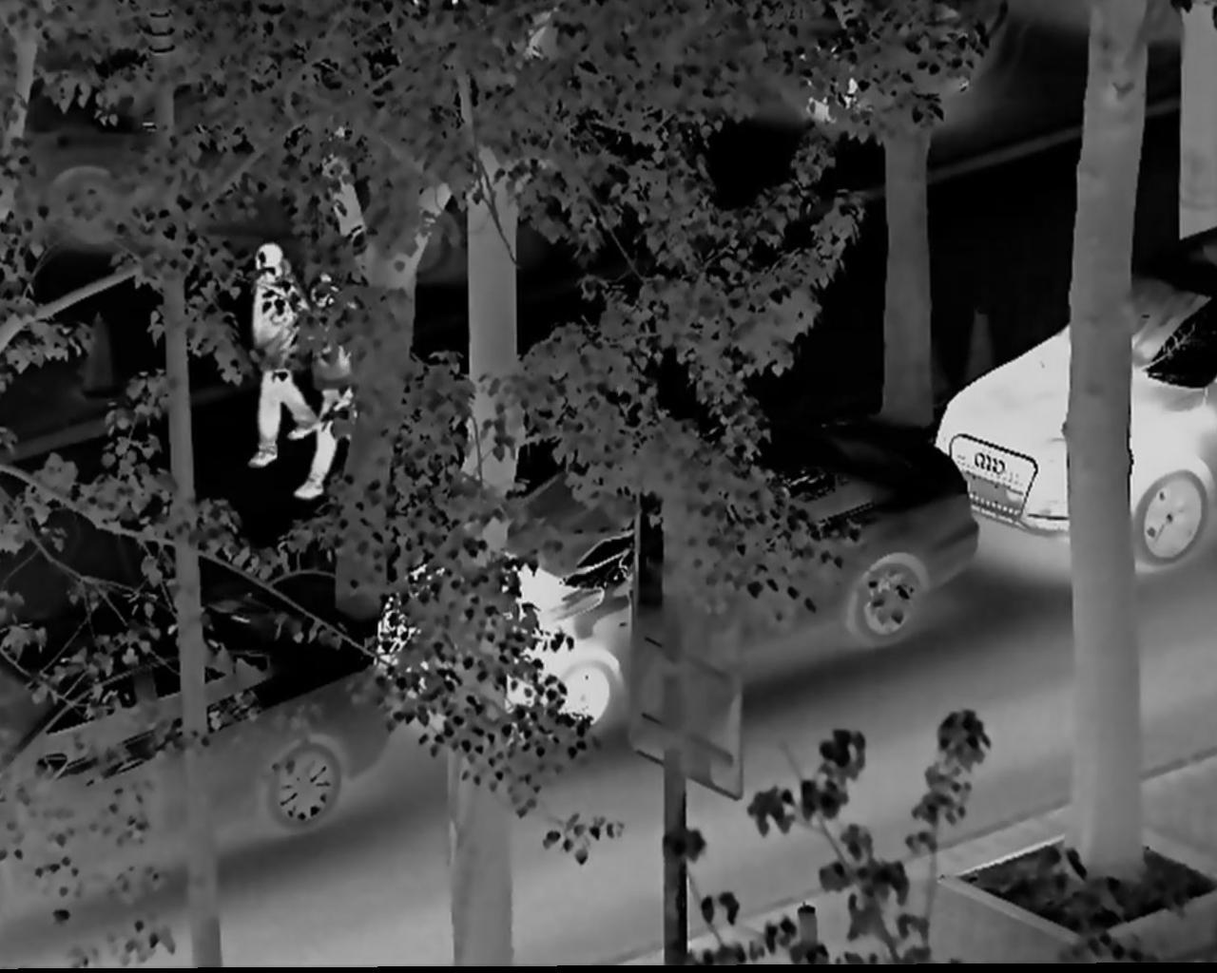person: (227, 239, 319, 484), (293, 283, 377, 513)
